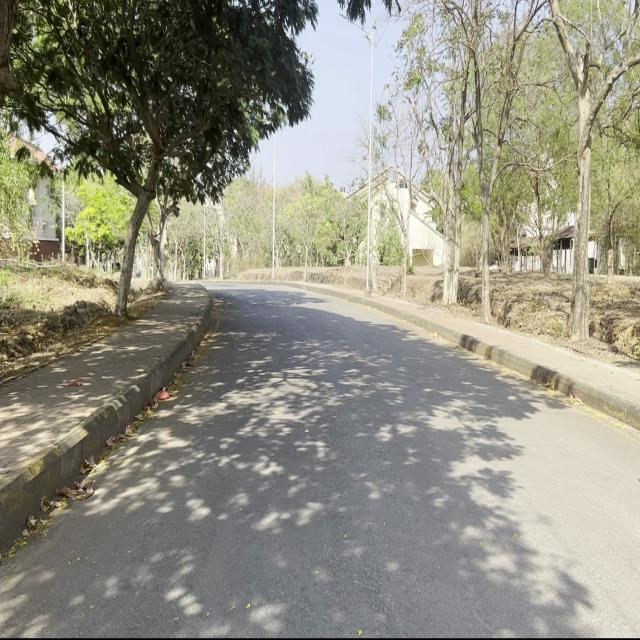Road: (2, 282, 639, 631)
